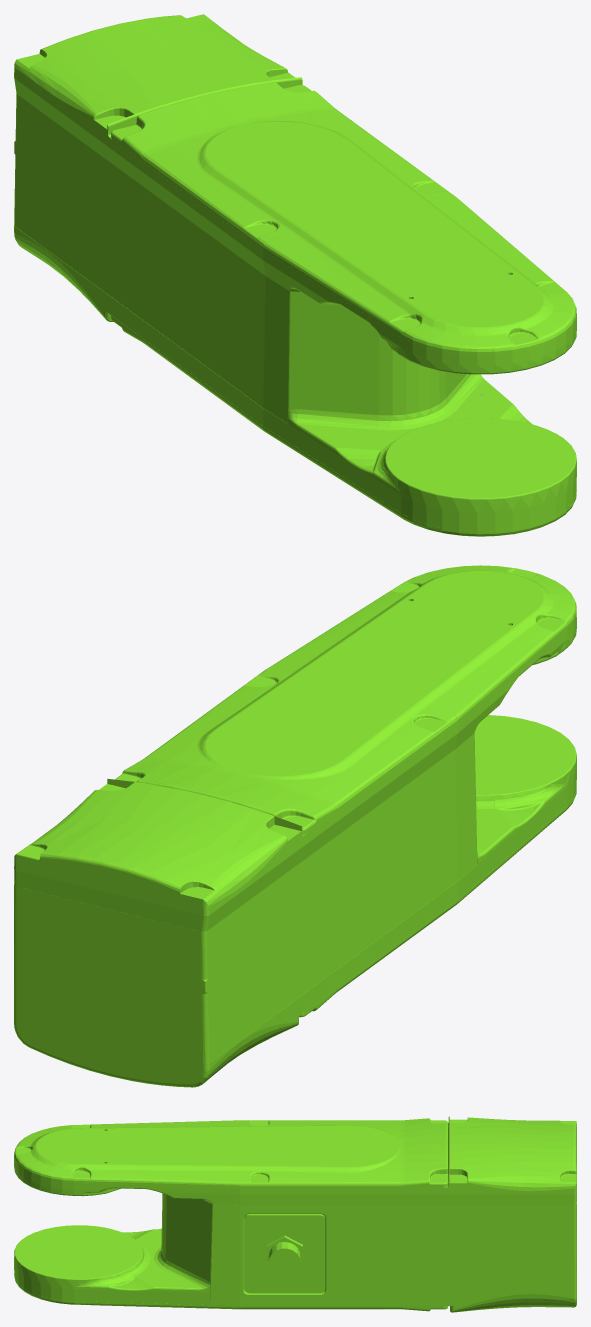
3 views of the same model, one above another, from view 1: azimuth 30°, elevation 25°; view 2: azimuth 150°, elevation 25°; view 3: azimuth 270°, elevation 25° (orthographic). The views are drawn at different scales.
Parts seen in each view (by area): view 1: node; view 2: node; view 3: node.
Boxes of the visible parts, x1,y1,x2,y2 form: node: (14, 14, 576, 536); node: (14, 565, 576, 1087); node: (14, 1116, 576, 1312).
Size of the model in its own units: 114 by 105 by 373.
